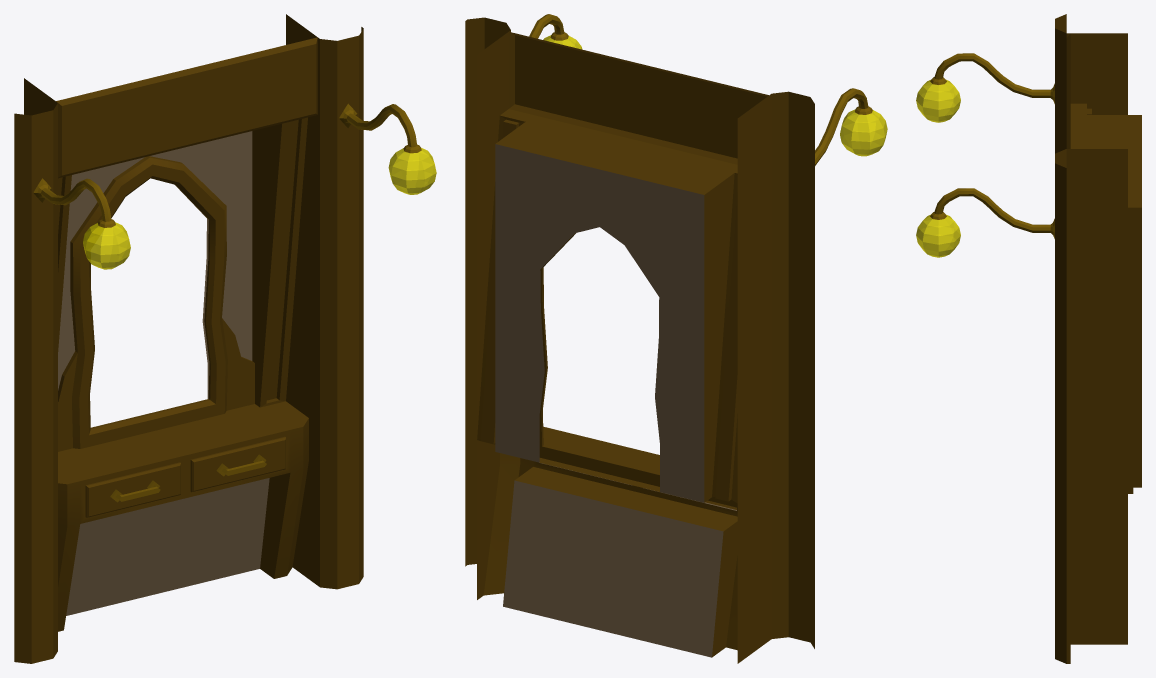
Rendered from ModuloEspejoHueco.fbx.
3 renders of one model, left to right at view 1: azimuth 30°, elevation 25°; view 2: azimuth 150°, elevation 25°; view 3: azimuth 270°, elevation 25°, orthographic. The views are drawn at different scales.
Parts seen in each view (by area): view 1: ModuloEspejoHueco; view 2: ModuloEspejoHueco; view 3: ModuloEspejoHueco.
Part boxes in pixels (x1,y1,x2,y2): ModuloEspejoHueco: (14, 14, 436, 663); ModuloEspejoHueco: (465, 14, 887, 663); ModuloEspejoHueco: (916, 14, 1141, 663).
Size of the model in its own units: 2 by 3 by 1.24.
